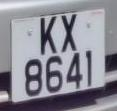1: (83, 47, 97, 95)
4: (64, 49, 85, 97)
6: (42, 52, 67, 97)
8: (20, 54, 46, 101)
K: (38, 12, 60, 58)
X: (58, 11, 80, 56)
